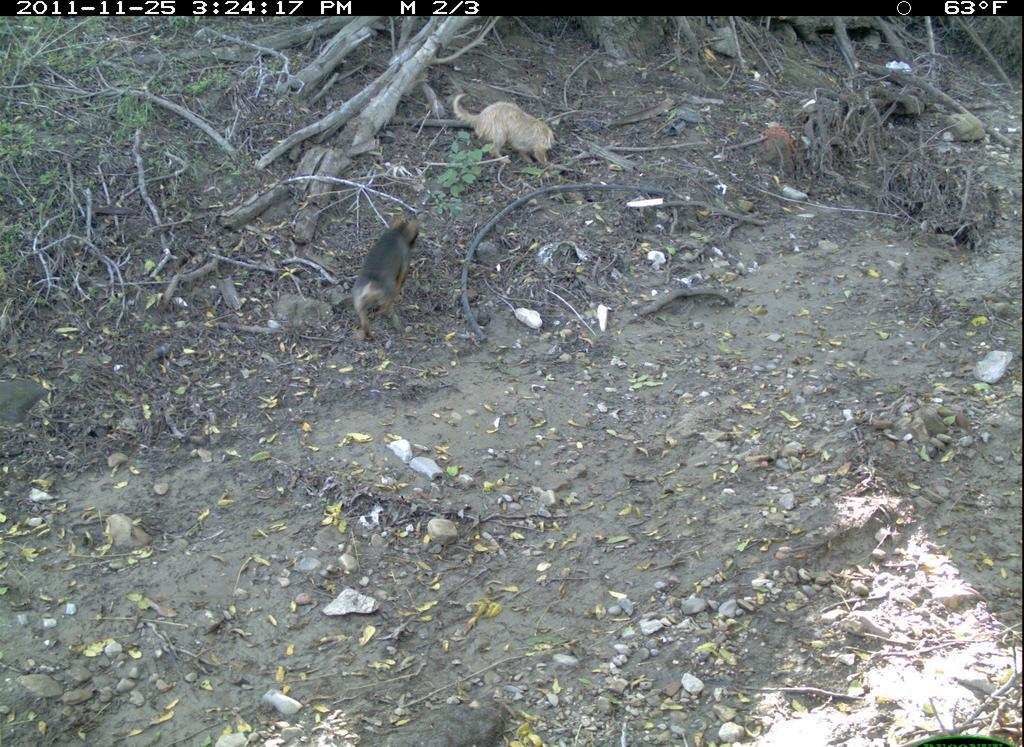dog: (337, 208, 438, 336), (438, 81, 575, 175)
